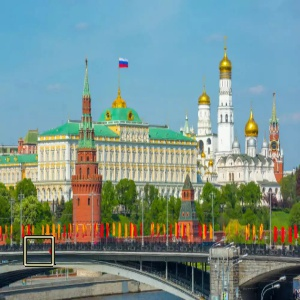square: (22, 234, 55, 268)
